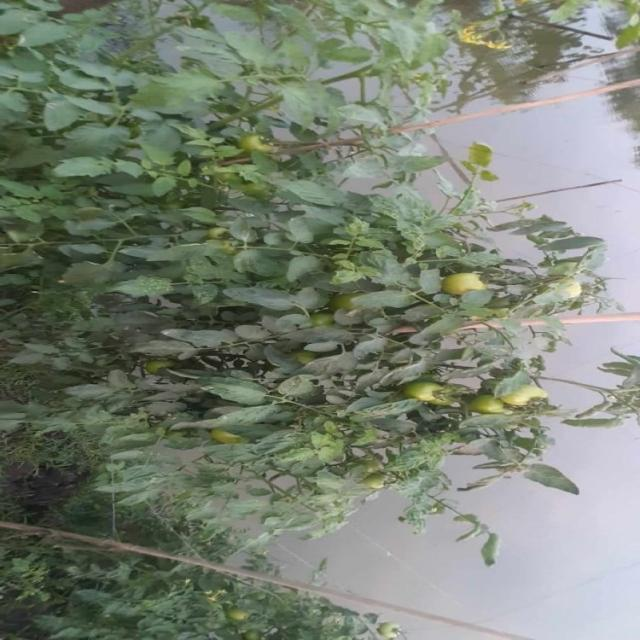tomato: (506, 381, 559, 418), (401, 377, 460, 406), (441, 270, 489, 297), (472, 391, 512, 420), (204, 430, 247, 454), (242, 135, 279, 155), (228, 611, 256, 632)
